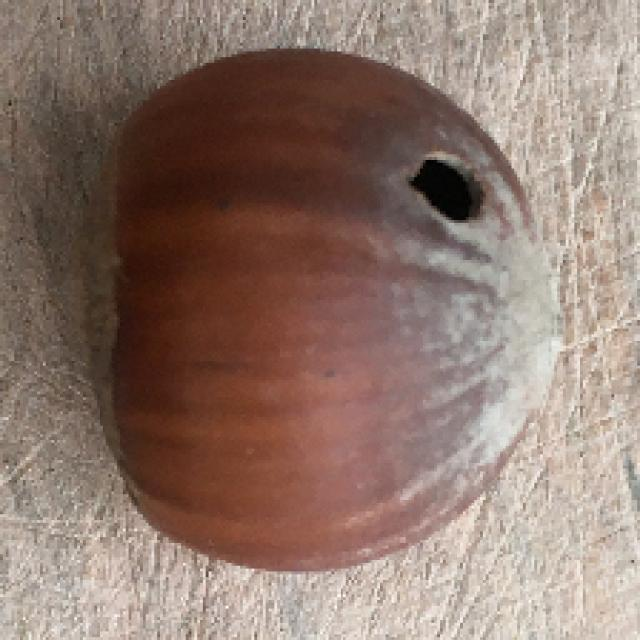damagedHazelnut: (67, 44, 560, 567)
